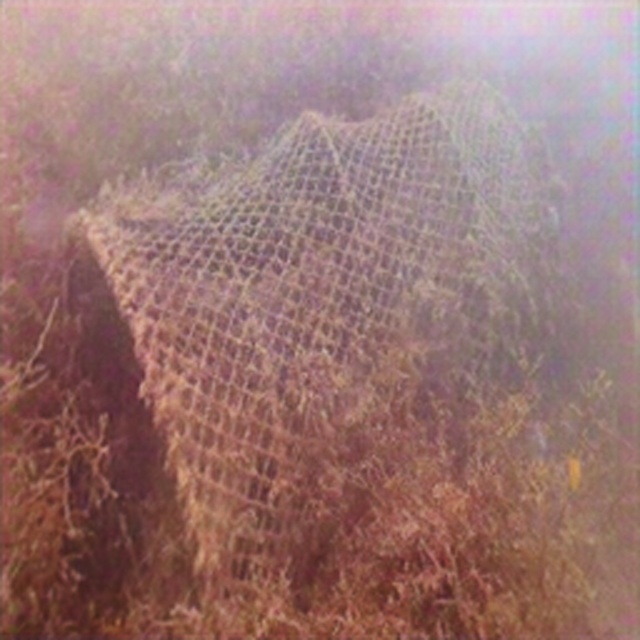mine: (58, 72, 572, 608)
